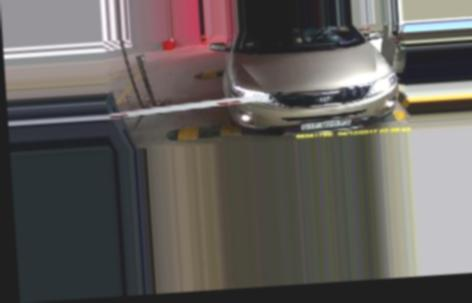License_Plate: (300, 115, 352, 131)
